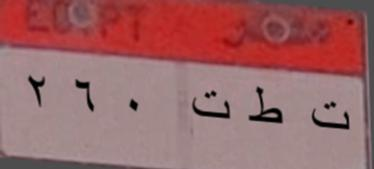0: (124, 92, 144, 117)
2: (22, 69, 52, 112)
6: (71, 75, 98, 116)
Taa: (245, 80, 286, 134)
taa: (304, 92, 355, 139), (190, 84, 236, 125)
